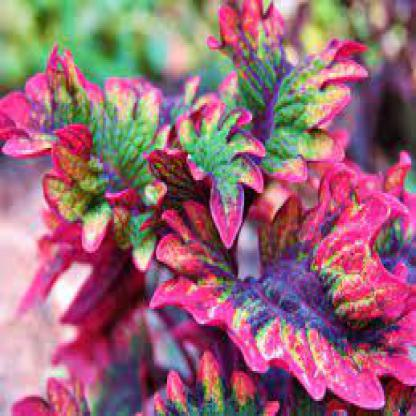Bunga Coleus: (20, 34, 393, 379)
